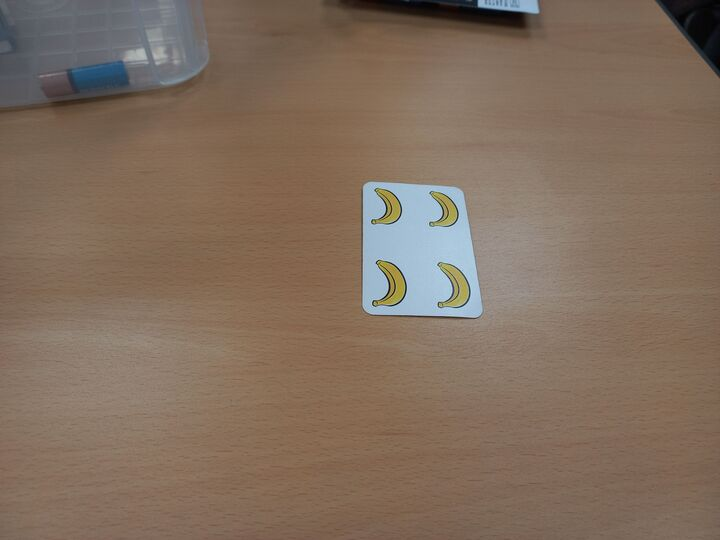banana4: (360, 179, 485, 320)
